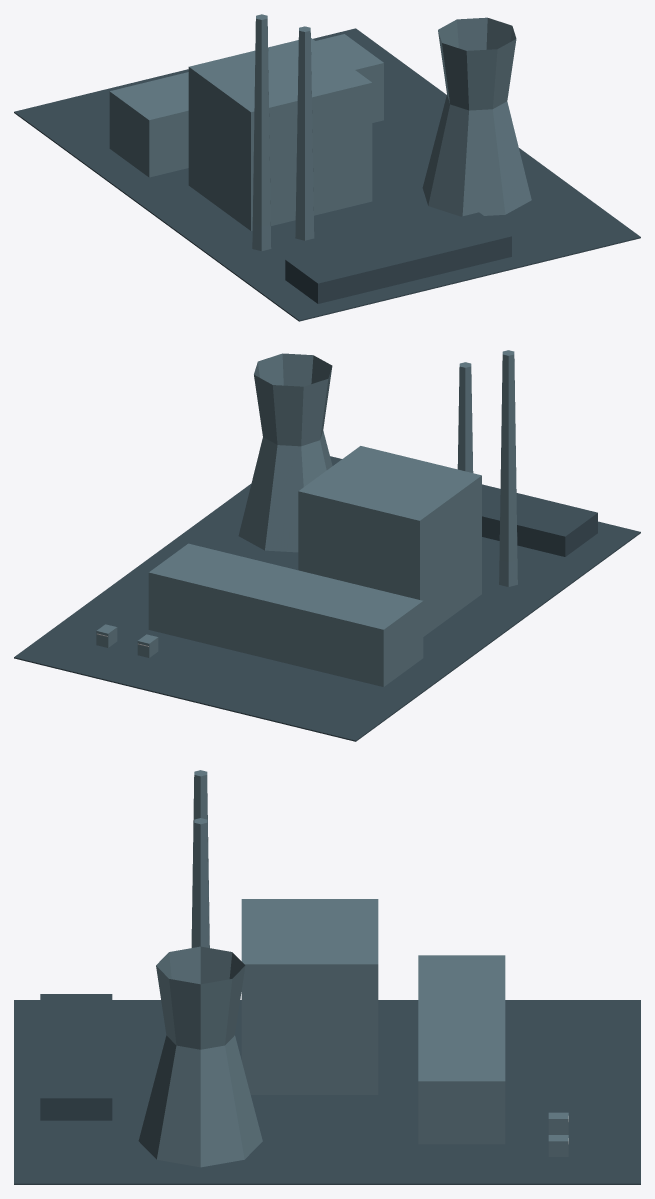
The model's file is coal_plant_retiring_site.lod2.glb.
3 renders of one model, top to bottom at view 1: azimuth 30°, elevation 25°; view 2: azimuth 150°, elevation 25°; view 3: azimuth 270°, elevation 25°, orthographic. The views are drawn at different scales.
Visible parts, largest first — view 1: coal_plant_retiring_site_graphite_light.002, coal_plant_retiring_site_graphite.002; view 2: coal_plant_retiring_site_graphite_light.002, coal_plant_retiring_site_graphite.002; view 3: coal_plant_retiring_site_graphite.002, coal_plant_retiring_site_graphite_light.002.
Part boxes in pixels (x1,y1,x2,y2): coal_plant_retiring_site_graphite_light.002: [109, 14, 531, 251]; coal_plant_retiring_site_graphite.002: [14, 28, 640, 321]; coal_plant_retiring_site_graphite_light.002: [96, 350, 517, 686]; coal_plant_retiring_site_graphite.002: [14, 456, 640, 741]; coal_plant_retiring_site_graphite.002: [14, 994, 640, 1184]; coal_plant_retiring_site_graphite_light.002: [138, 770, 568, 1167].
Bounding box in the file's own units: 175 × 113 × 252.
